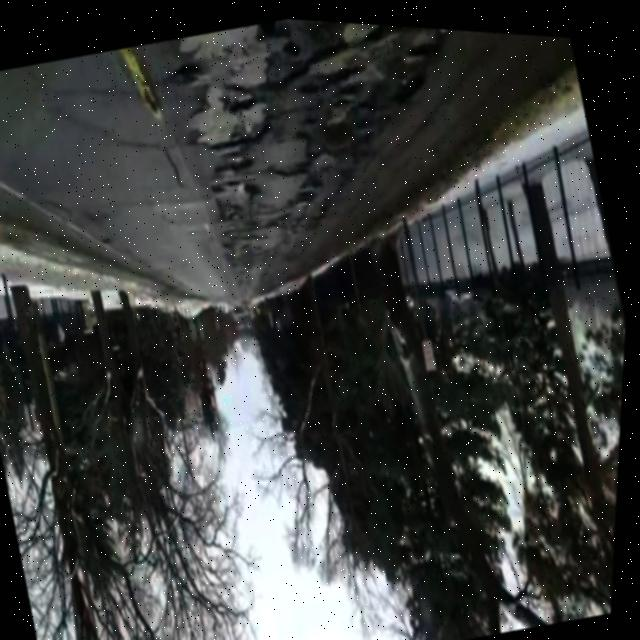Pothole: (175, 58, 286, 160), (168, 11, 283, 85), (301, 43, 363, 103), (331, 17, 401, 56), (216, 171, 263, 224), (319, 93, 361, 138), (403, 21, 453, 57), (388, 64, 425, 106), (227, 141, 251, 175)
